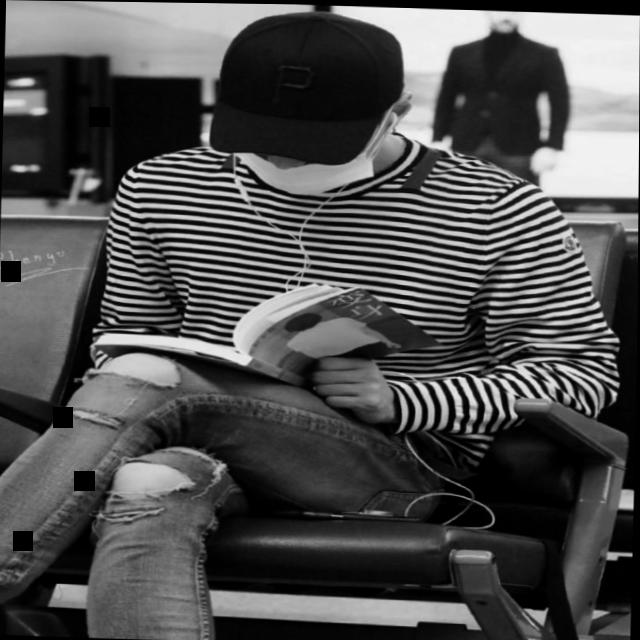Mask: (198, 6, 424, 212)
